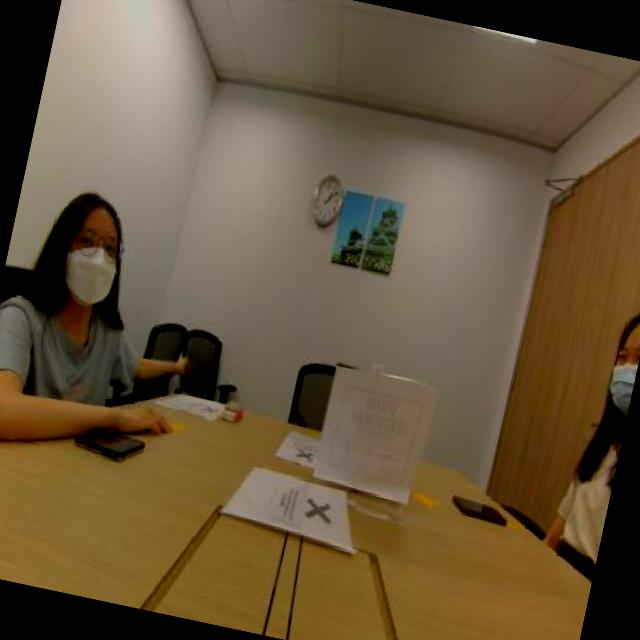Person: (0, 133, 196, 425), (531, 269, 640, 567)
